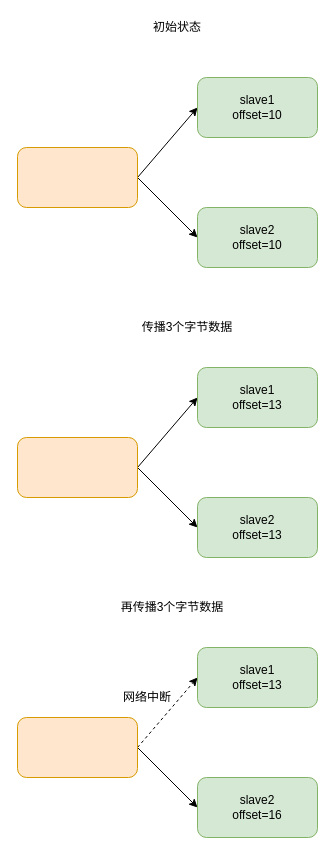
The diagram is 335 pixels wide and 855 high, and some of its shapes have lost their labels. The shapes that lost their labels are listed below. From the top down, each one's centre as x and y in pixels, then its label:
the point at 77,177: master offset=10
the point at 77,467: master offset=13
the point at 77,747: master offset=16
